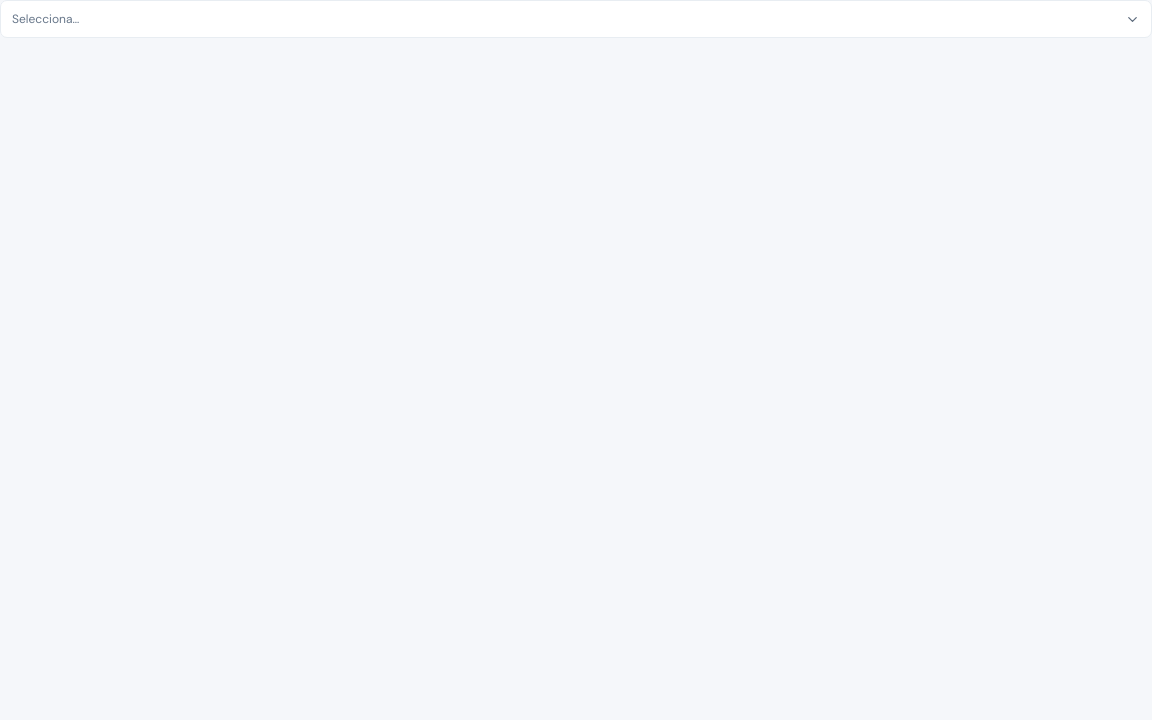
it: SearchableSelect › shows the loading state instead of options
Click the dropdown named "Partner": coordinates (46, 19) [0,0,1151,38]
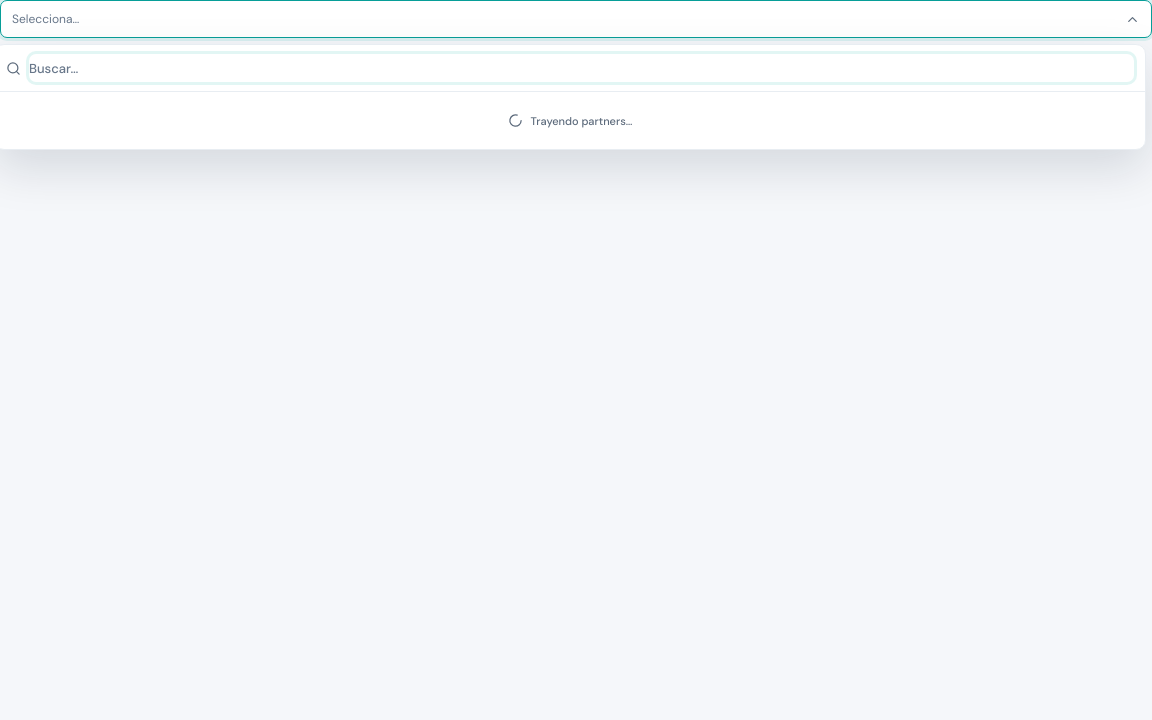
Check: the text "Trayendo partners…" is shown, box [508,113,632,128]
